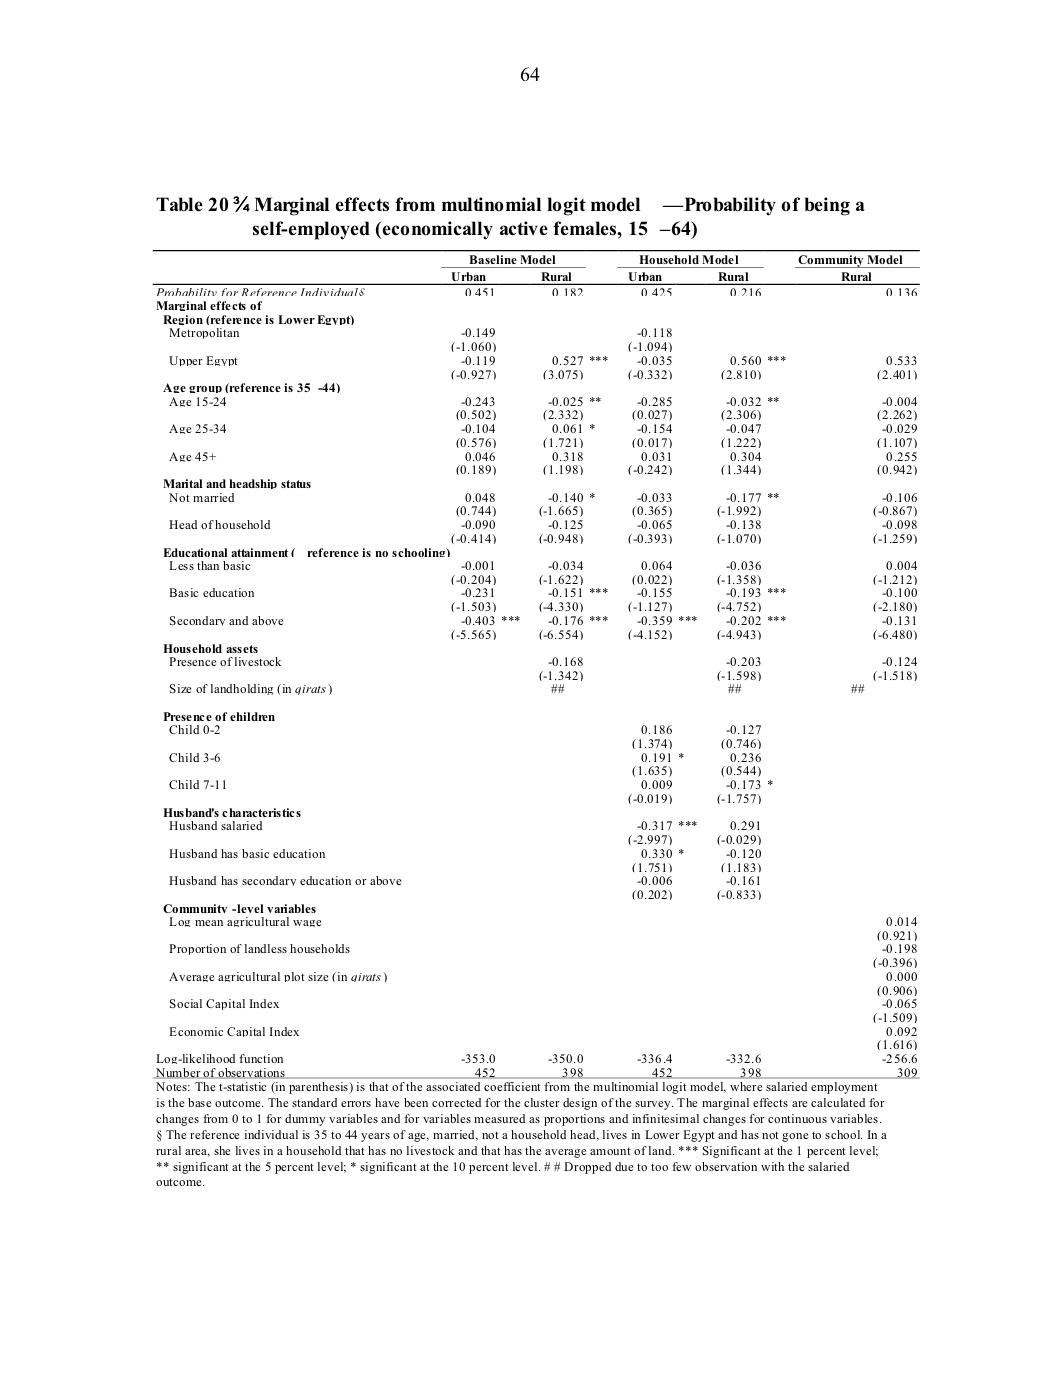Table: (152, 250, 919, 1078)
